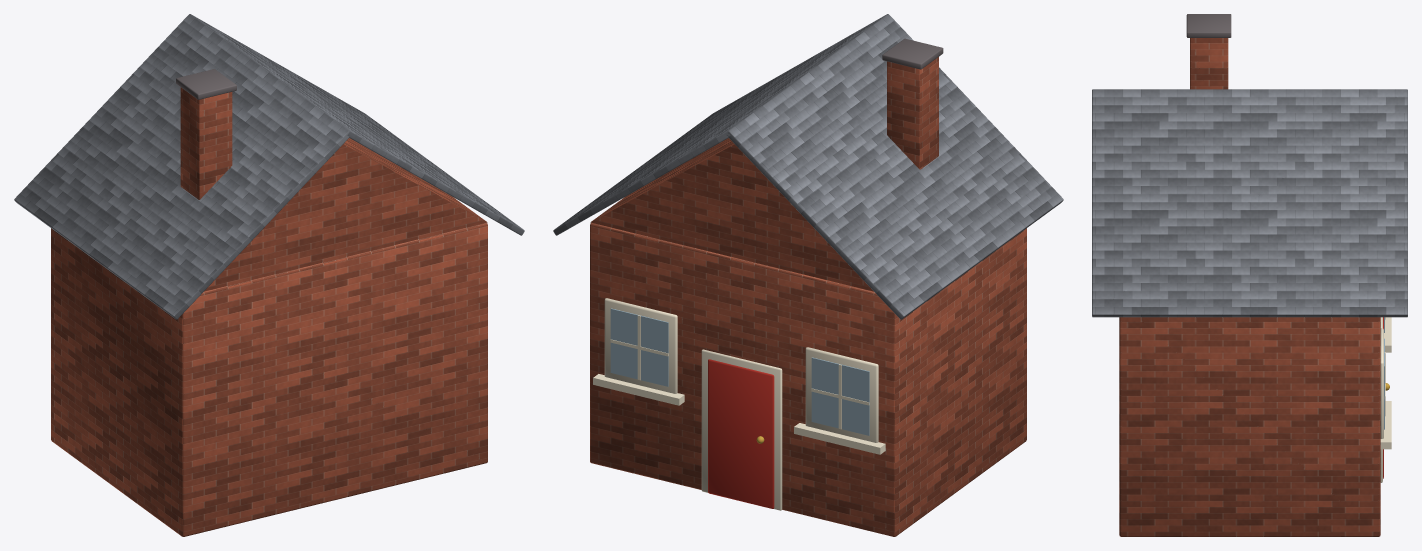
The model's file is house_2.fbx.
The picture shows the model from 3 angles, left to right: view 1: azimuth 30°, elevation 25°; view 2: azimuth 150°, elevation 25°; view 3: azimuth 270°, elevation 25°; orthographic projection.
Parts seen in each view (by area): view 1: house_2; view 2: house_2; view 3: house_2.
Part boxes in pixels (x1,y1,x2,y2): house_2: [14, 14, 524, 536]; house_2: [553, 14, 1063, 536]; house_2: [1092, 14, 1407, 536].
Size of the model in its own units: 3.67 by 4.06 by 2.9.
